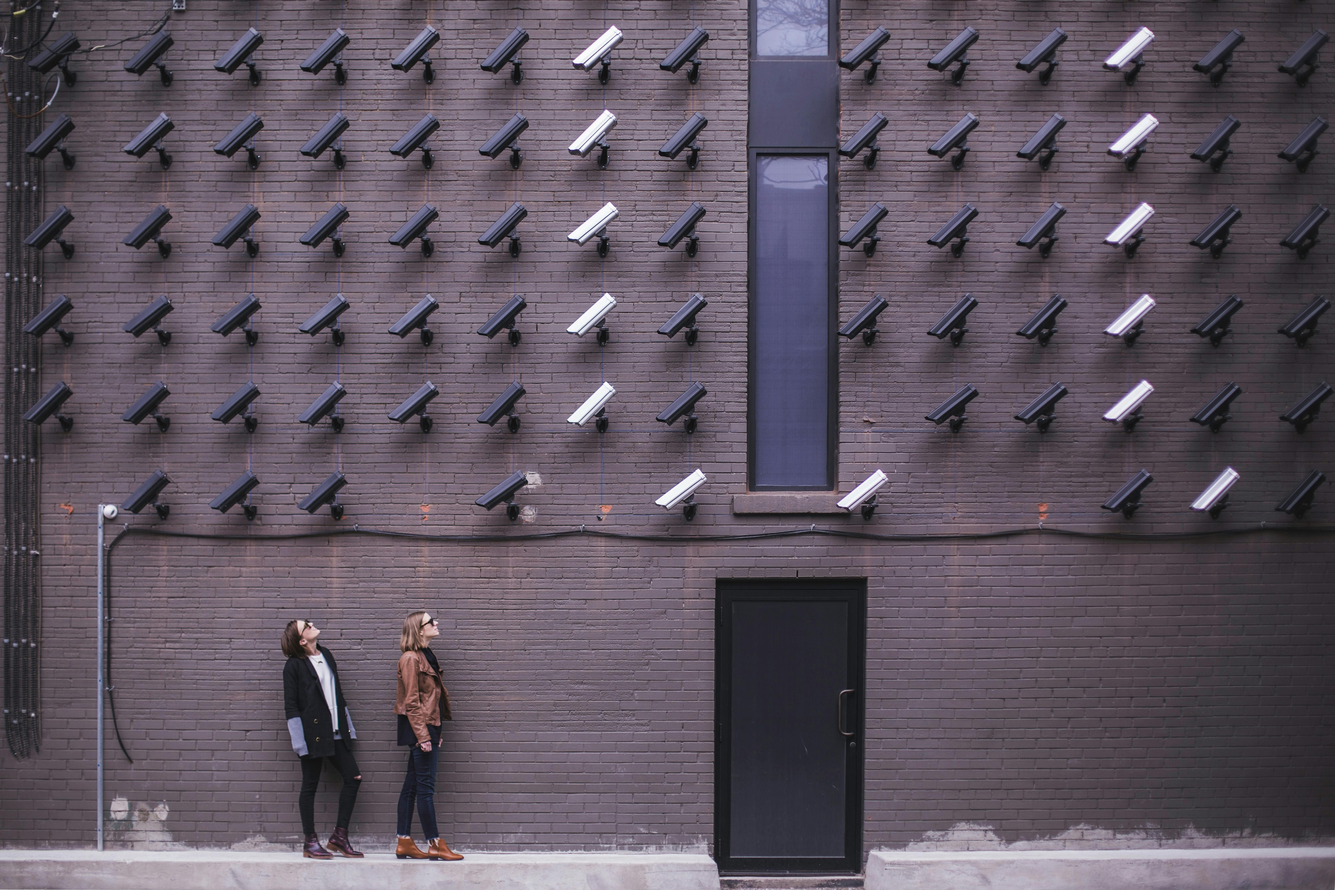camera: (976, 271, 1078, 380), (980, 109, 1096, 199), (1235, 190, 1335, 294), (1228, 280, 1335, 375), (1170, 450, 1275, 545), (973, 0, 1082, 90), (443, 457, 563, 538), (1157, 271, 1254, 371), (997, 185, 1085, 294), (1154, 359, 1261, 447), (814, 12, 918, 102), (1238, 109, 1335, 204), (895, 0, 987, 100), (1259, 0, 1335, 118), (992, 359, 1085, 454), (1078, 2, 1161, 107), (88, 468, 195, 549), (818, 280, 904, 380), (1157, 100, 1252, 188), (1247, 359, 1335, 454), (457, 14, 559, 95), (827, 93, 906, 197), (642, 271, 728, 366), (1173, 181, 1259, 273), (1087, 267, 1163, 371), (14, 269, 93, 369), (635, 454, 725, 540), (1085, 188, 1163, 287), (109, 188, 188, 285), (287, 185, 373, 273), (1075, 366, 1170, 445), (185, 470, 290, 540), (635, 14, 744, 81), (902, 109, 1001, 181), (1177, 0, 1252, 93), (1094, 104, 1173, 192), (21, 366, 95, 459), (111, 100, 188, 188), (649, 90, 718, 188), (0, 107, 86, 185), (906, 185, 987, 267), (1089, 454, 1168, 538), (12, 190, 86, 278), (642, 195, 725, 273), (827, 183, 895, 278), (823, 457, 902, 538), (913, 369, 985, 457), (640, 371, 725, 445), (466, 95, 533, 188), (552, 16, 644, 83), (895, 285, 980, 357), (114, 276, 183, 364), (114, 359, 183, 447), (285, 466, 371, 535), (23, 23, 102, 97), (199, 273, 273, 352), (559, 278, 628, 362), (204, 362, 273, 445), (385, 97, 450, 185), (375, 276, 450, 352), (1277, 452, 1335, 549), (464, 192, 542, 264), (290, 278, 355, 364), (554, 102, 637, 169), (373, 190, 445, 267), (561, 188, 633, 264), (561, 366, 628, 447), (297, 357, 357, 447), (211, 19, 283, 93), (206, 104, 280, 176), (121, 25, 192, 97), (389, 364, 447, 452), (385, 12, 450, 90), (297, 111, 369, 181), (466, 287, 538, 357), (466, 380, 540, 443), (297, 14, 359, 88), (197, 192, 269, 255)
